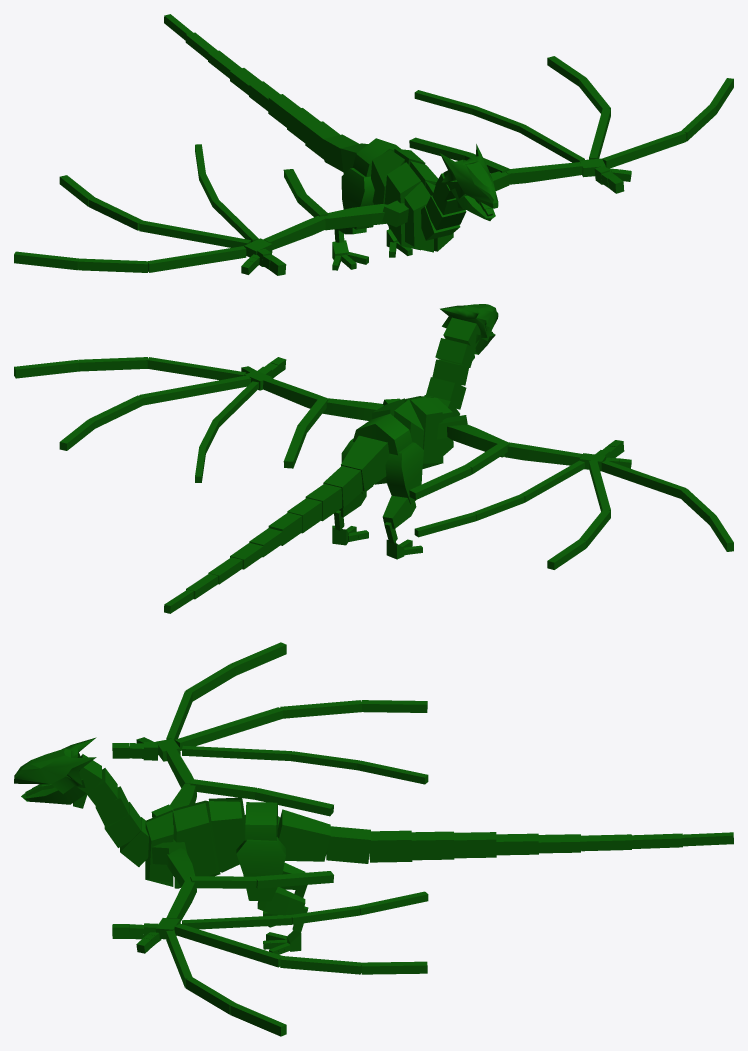
File: Wyvern Proxy.fbx
3 views of the same model, one above another, from view 1: azimuth 30°, elevation 25°; view 2: azimuth 150°, elevation 25°; view 3: azimuth 270°, elevation 25° (orthographic). The views are drawn at different scales.
Visible parts, largest first — view 1: Head, Spine1, Spine2, R Finger3, R Finger2, Spine, R Thigh, R UpperArm, L Forearm, L Finger2, R Forearm, R Finger21 (+23 smaller); view 2: R Thigh, Tail01, Spine1, Pelvis, L Finger3, L Finger2, Head, R Forearm, R Finger2, Spine, R UpperArm, L UpperArm (+22 smaller); view 3: Spine1, Head, Tail01, Spine, L Thigh, Tail02, L Finger3, Spine2, R Finger3, Tail03, Pelvis, Tail04 (+31 smaller).
Boxes of the visible parts, bbox=[...] form: Head: bbox=[440, 144, 498, 208]; Spine1: bbox=[384, 161, 438, 249]; Spine2: bbox=[404, 181, 453, 252]; R Finger3: bbox=[139, 220, 250, 247]; R Finger2: bbox=[147, 246, 246, 272]; Spine: bbox=[371, 148, 425, 204]; R Thigh: bbox=[341, 168, 374, 229]; R UpperArm: bbox=[325, 204, 387, 230]; L Forearm: bbox=[506, 162, 582, 184]; L Finger2: bbox=[602, 131, 686, 168]; R Forearm: bbox=[263, 215, 326, 249]; R Finger21: bbox=[78, 258, 147, 272]; R Thigh: bbox=[385, 442, 423, 504]; Tail01: bbox=[341, 435, 389, 491]; Spine1: bbox=[404, 396, 443, 469]; Pelvis: bbox=[352, 414, 412, 484]; L Finger3: bbox=[139, 375, 250, 405]; L Finger2: bbox=[147, 357, 246, 380]; Head: bbox=[440, 304, 498, 341]; R Forearm: bbox=[504, 442, 582, 465]; R Finger2: bbox=[601, 460, 686, 498]; Spine: bbox=[372, 398, 423, 448]; R UpperArm: bbox=[447, 424, 507, 457]; L UpperArm: bbox=[322, 398, 383, 420]; Spine1: bbox=[173, 800, 220, 888]; Head: bbox=[14, 737, 96, 793]; Tail01: bbox=[277, 809, 330, 861]; Spine: bbox=[208, 797, 245, 872]; L Thigh: bbox=[236, 837, 285, 901]; Tail02: bbox=[326, 826, 370, 863]; L Finger3: bbox=[174, 923, 283, 967]; Spine2: bbox=[145, 810, 173, 886]; R Finger3: bbox=[174, 707, 283, 750]; Tail03: bbox=[369, 830, 412, 862]; Pelvis: bbox=[245, 802, 277, 840]; Tail04: bbox=[411, 831, 454, 860].
Size of the model in its own units: 1571 by 354 by 1242.
